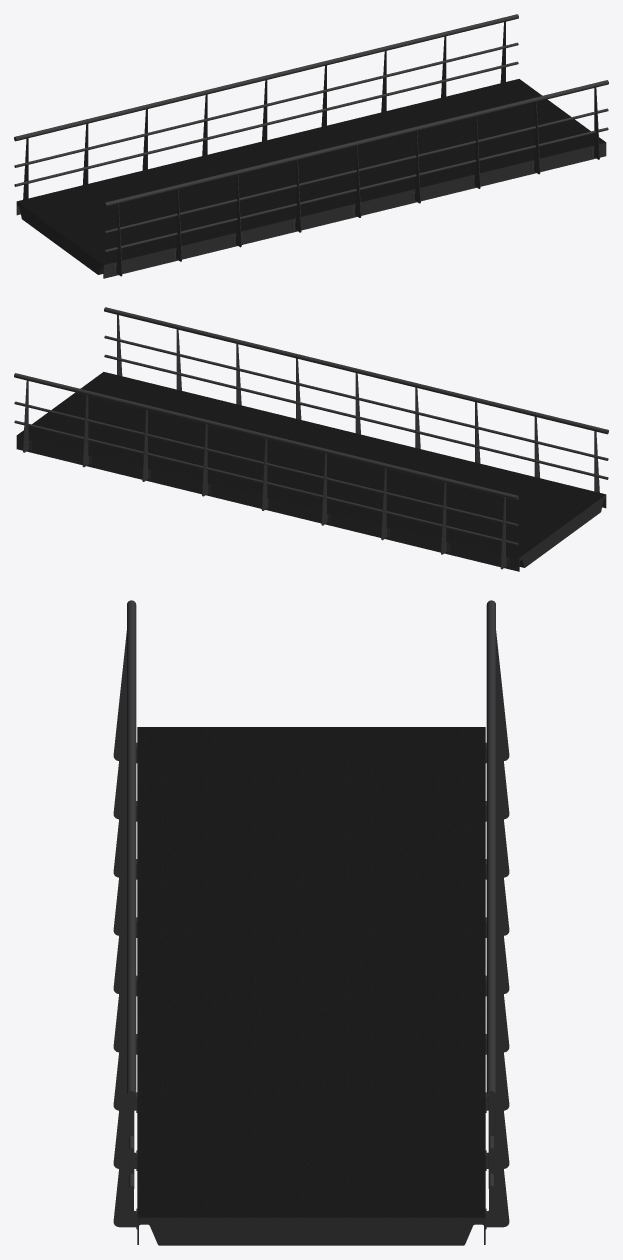
The model's file is Composite_Steel.glb.
The picture shows the model from 3 angles, top to bottom: view 1: azimuth 30°, elevation 25°; view 2: azimuth 150°, elevation 25°; view 3: azimuth 270°, elevation 25°; orthographic projection. The views are drawn at different scales.
Size of the model in its own units: 10 by 1.47 by 3.41.
Materials: 3 (1 with a texture image).
